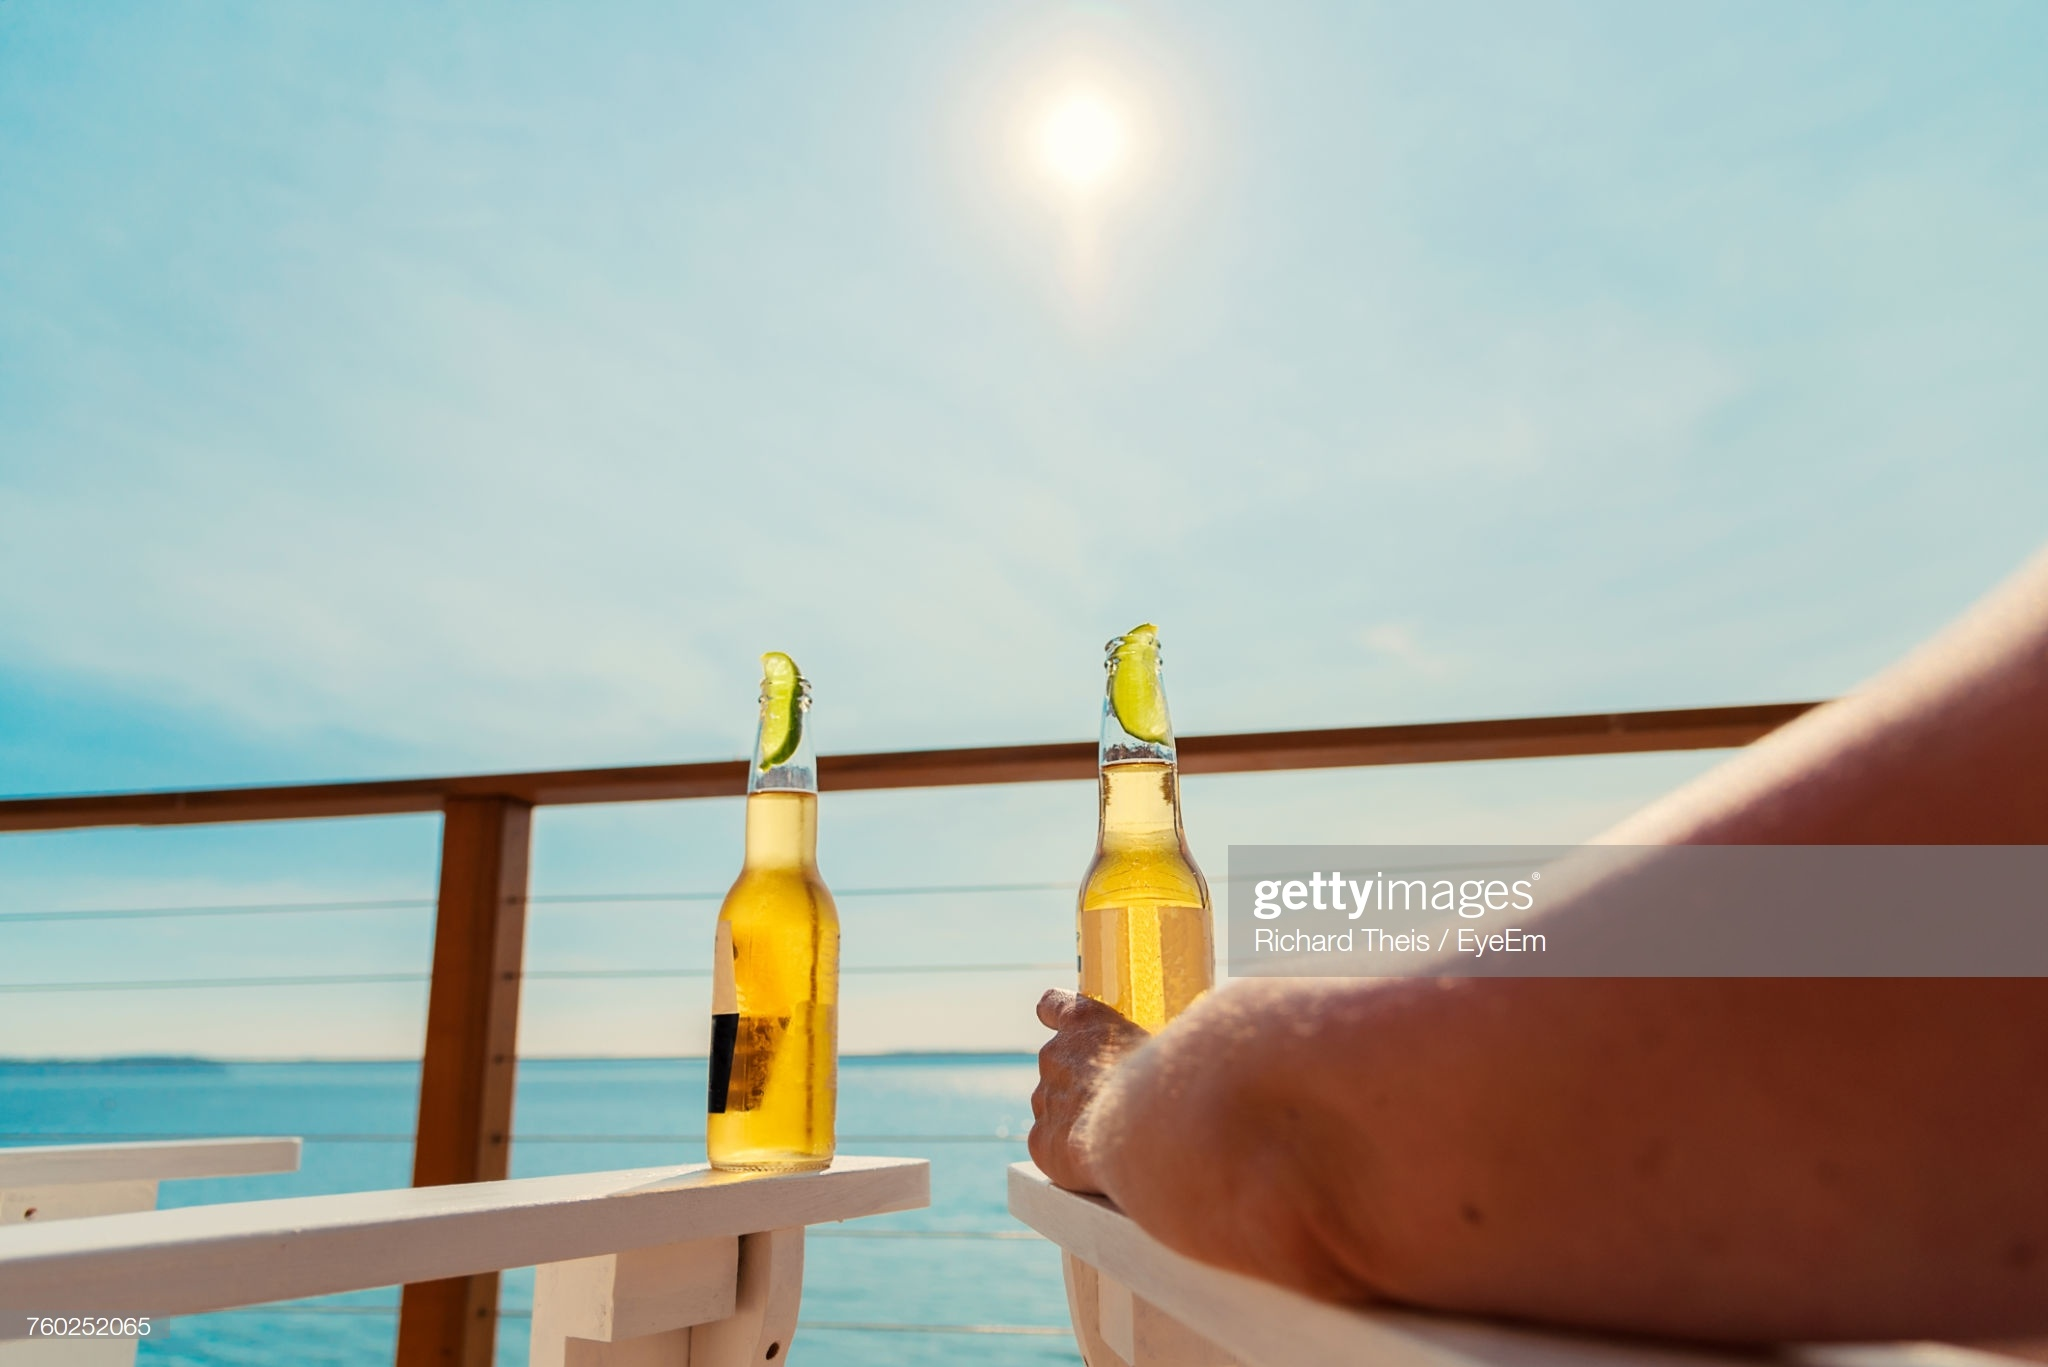beerBottle: (708, 650, 842, 1166), (1087, 632, 1220, 1060)
